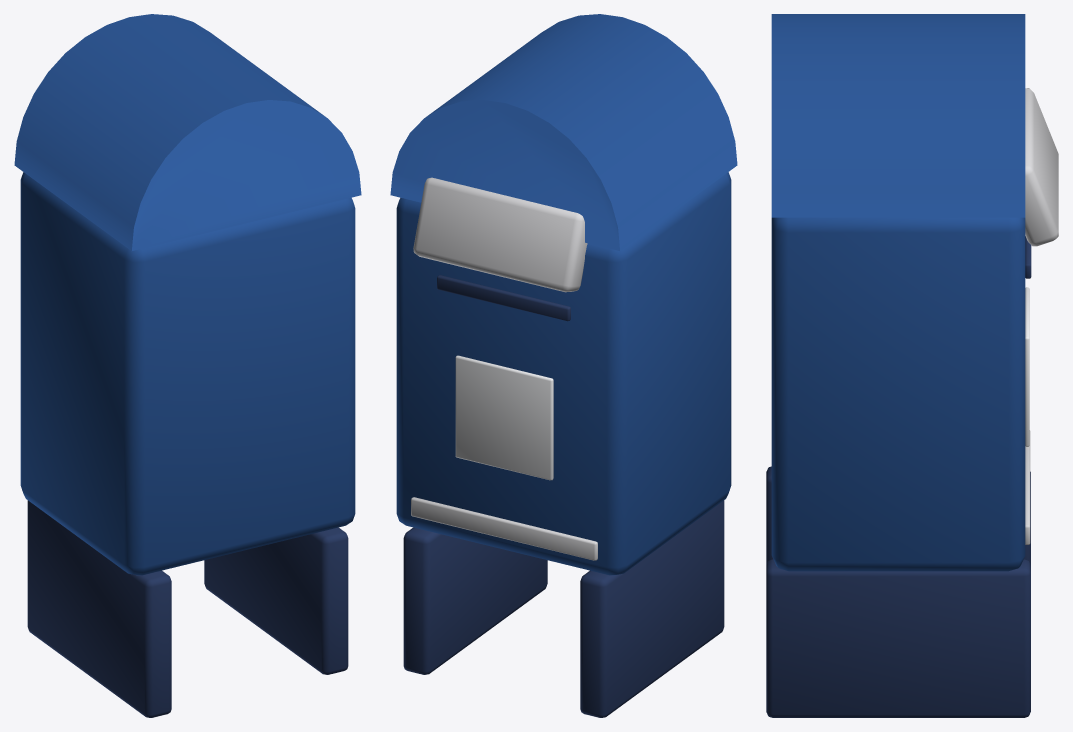
File: mailbox.glb
The picture shows the model from 3 angles, left to right: view 1: azimuth 30°, elevation 25°; view 2: azimuth 150°, elevation 25°; view 3: azimuth 270°, elevation 25°; orthographic projection. The views are drawn at different scales.
Visible parts, largest first — view 1: mailbox; view 2: mailbox; view 3: mailbox.
Part boxes in pixels (left/top/right/bottom): mailbox: left=14, top=14, right=361, bottom=717; mailbox: left=390, top=14, right=737, bottom=717; mailbox: left=766, top=14, right=1058, bottom=717.
Size of the model in its own units: 0.52 by 1.28 by 0.5305.
